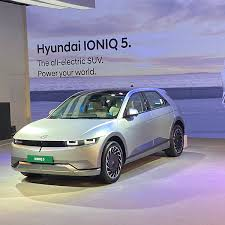Honda Ioniq: (11, 82, 188, 190)
